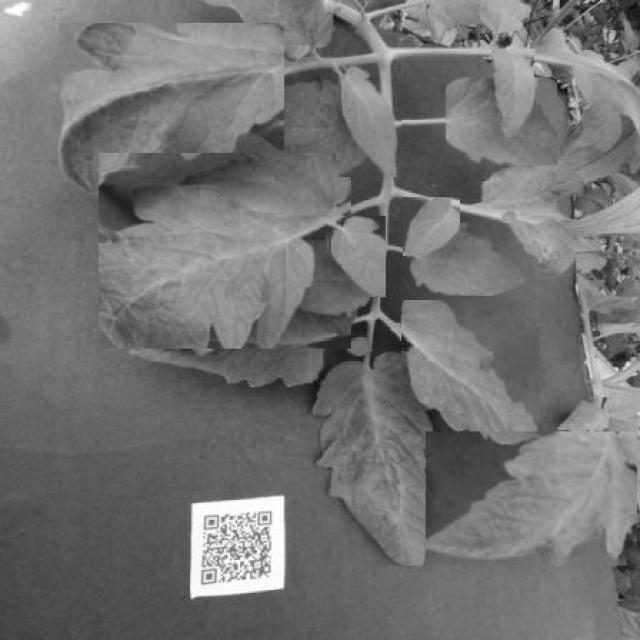Healthy: (99, 153, 351, 348), (59, 23, 285, 203), (426, 431, 637, 566), (314, 352, 434, 567), (401, 300, 540, 456), (446, 78, 558, 166), (409, 223, 524, 296), (339, 63, 402, 178), (328, 216, 386, 297), (491, 49, 535, 138), (403, 197, 460, 256)
